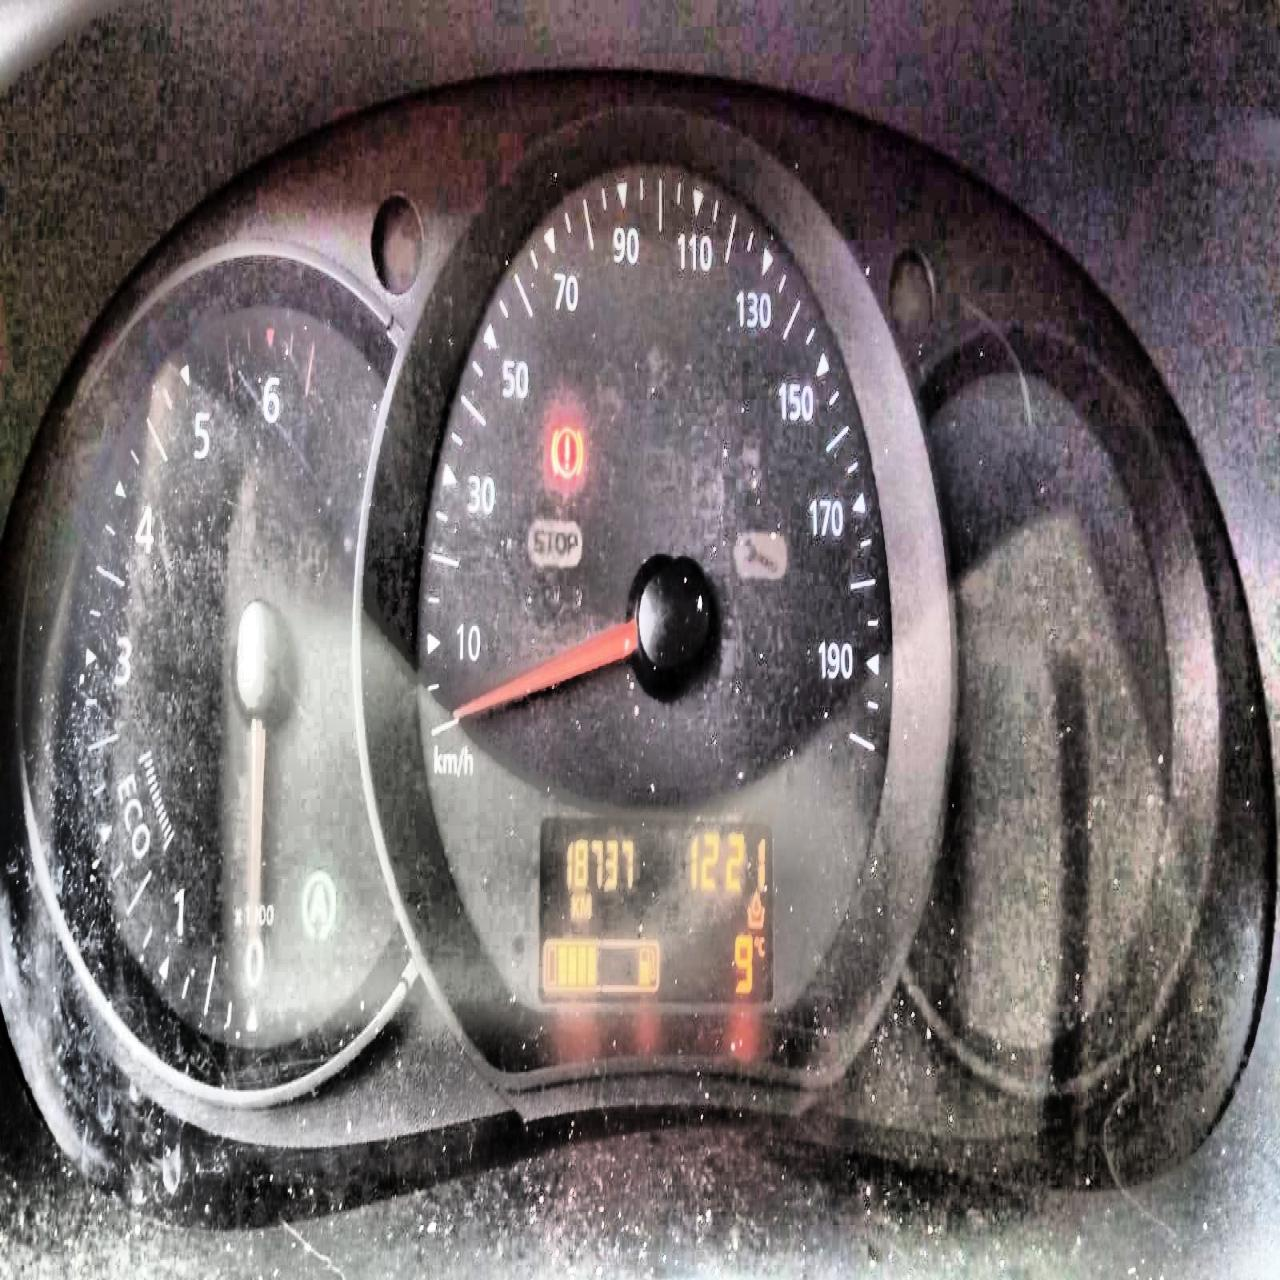1: (755, 831, 769, 887), (689, 829, 699, 892), (566, 833, 572, 887)
2: (726, 829, 744, 894), (701, 828, 717, 893)
3: (605, 836, 617, 888)
7: (622, 836, 635, 892), (591, 832, 604, 886)
8: (573, 837, 588, 888)
9: (731, 932, 753, 998)
X: (579, 892, 591, 919), (570, 892, 580, 919), (758, 934, 765, 960)
odometer: (532, 794, 777, 1020)
